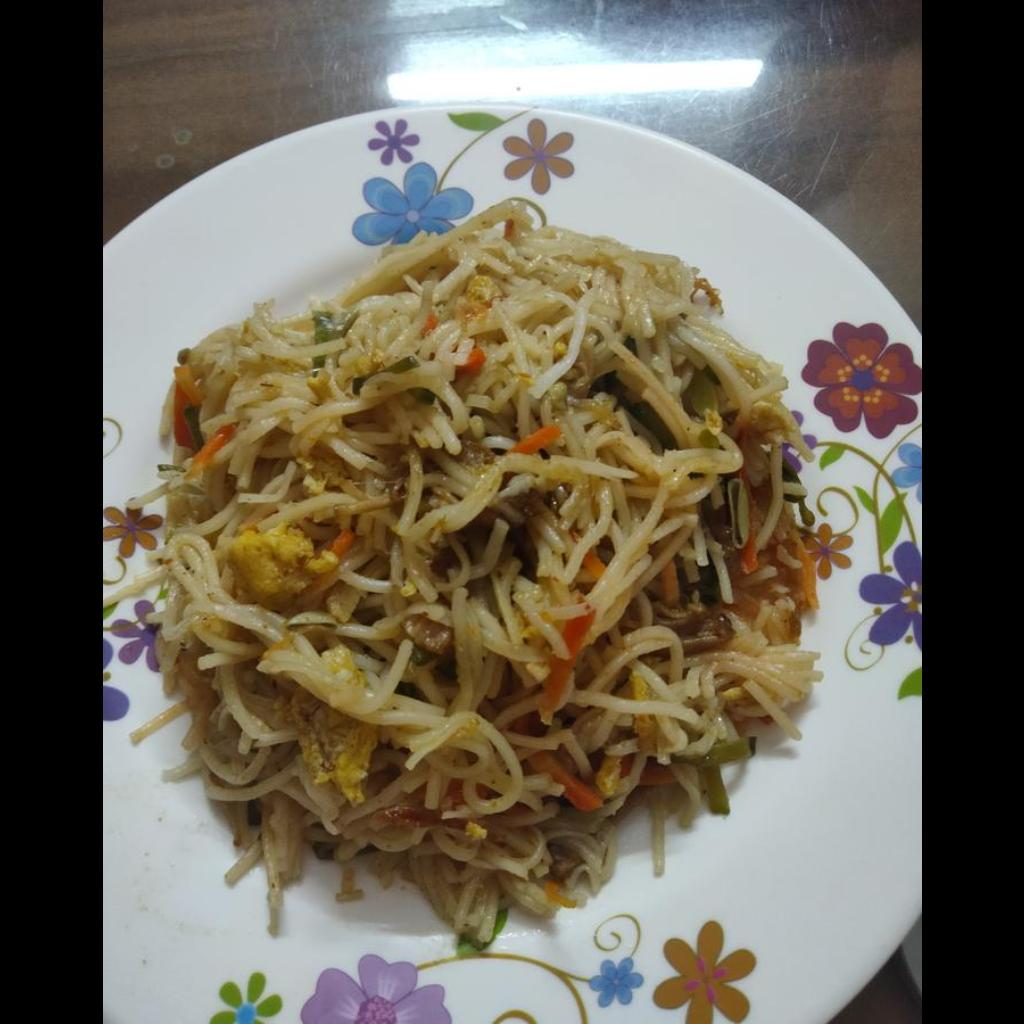noodles: (155, 206, 820, 966)
